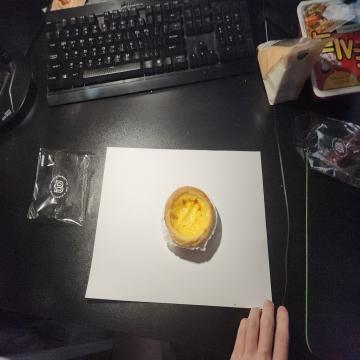EggTart: (163, 185, 215, 250)
